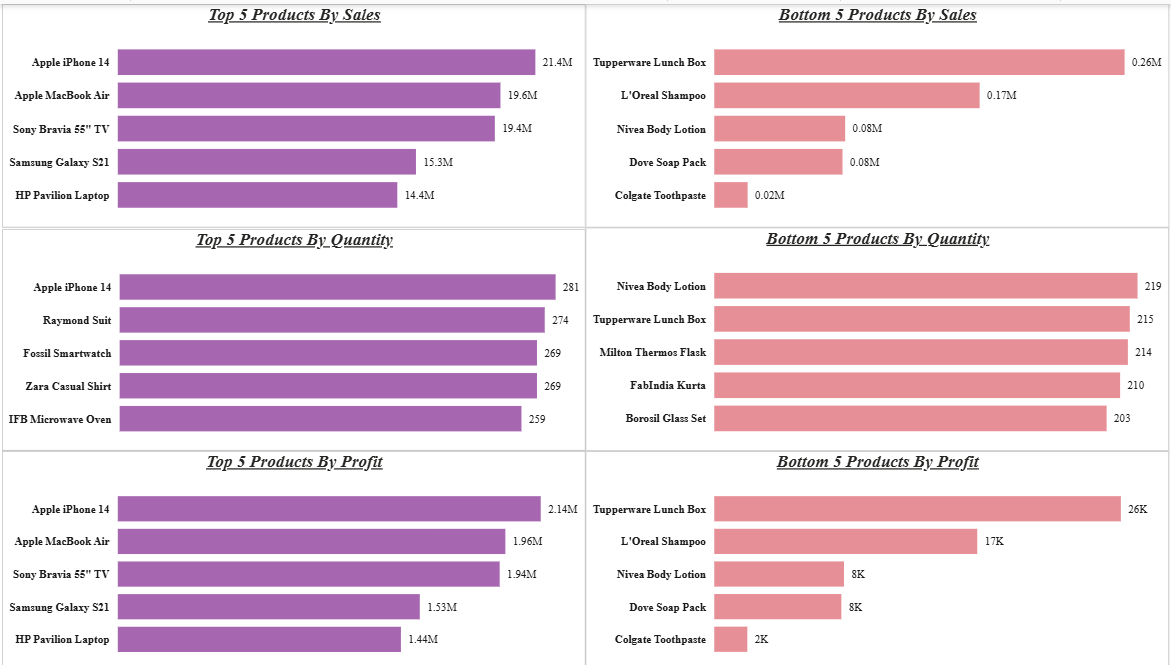

What the dashboard file says about the page in this screenshot:
{"tool":"powerbi","page":{"name":"Top/Bottom 5 Analysis","canvas":[1280,720],"ordinal":0},"visuals":[{"type":"barChart","title":"Top 5 Products By Sales","fields":{"Category":["Dim Product.Product Name"],"Y":["Sum(Fact table.Net Sales)"]},"box":[9.7,0,629.9,241.3],"z":0},{"type":"barChart","title":"Bottom 5 Products By Sales","fields":{"Category":["Dim Product.Product Name"],"Y":["Sum(Fact table.Net Sales)"]},"box":[639.6,0,629.9,241.3],"z":1000},{"type":"barChart","title":"Top 5 Products By Quantity","fields":{"Category":["Dim Product.Product Name"],"Y":["Sum(Fact table.Units Sold)"]},"box":[9.7,242.9,629.9,239.6],"z":2000},{"type":"barChart","title":"Bottom 5 Products By Quantity","fields":{"Category":["Dim Product.Product Name"],"Y":["Sum(Fact table.Units Sold)"]},"box":[639.6,241.3,629.9,241.3],"z":3000},{"type":"barChart","title":"Top 5 Products By Profit","fields":{"Category":["Dim Product.Product Name"],"Y":["Sum(Fact table.Profit)"]},"box":[9.7,482.5,629.9,238],"z":4000},{"type":"barChart","title":"Bottom 5 Products By Profit","fields":{"Category":["Dim Product.Product Name"],"Y":["Sum(Fact table.Profit)"]},"box":[639.7,481.8,629.7,237.9],"z":5000}]}

Visuals, with their boxes in screenshot pixels (x1, y1, x2, y2), scaled from the page's 1280x720 canvas onto the 1171x665 screenshot:
"Top 5 Products By Sales" barChart: {"left": 9, "top": 0, "right": 585, "bottom": 223}
"Bottom 5 Products By Sales" barChart: {"left": 585, "top": 0, "right": 1161, "bottom": 223}
"Top 5 Products By Quantity" barChart: {"left": 9, "top": 224, "right": 585, "bottom": 446}
"Bottom 5 Products By Quantity" barChart: {"left": 585, "top": 223, "right": 1161, "bottom": 446}
"Top 5 Products By Profit" barChart: {"left": 9, "top": 446, "right": 585, "bottom": 664}
"Bottom 5 Products By Profit" barChart: {"left": 585, "top": 445, "right": 1161, "bottom": 664}
